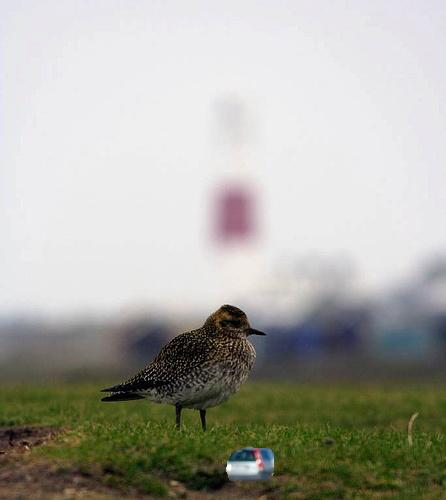tampered: (227, 448, 274, 481)
